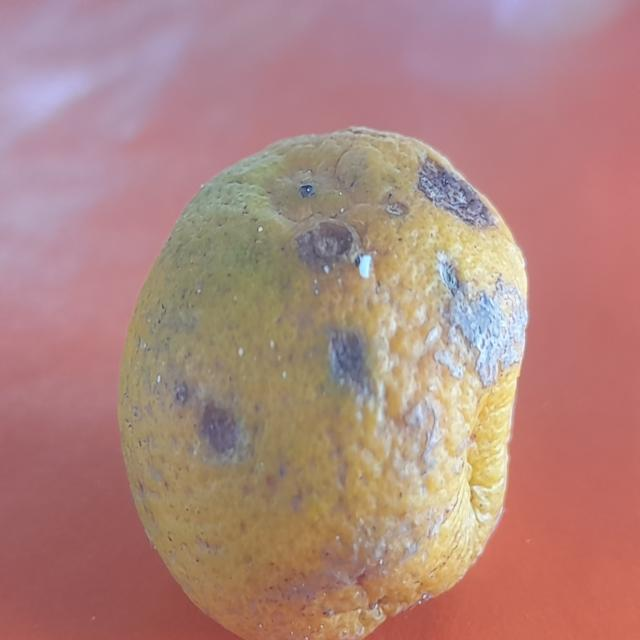black spot: (103, 108, 552, 640)
